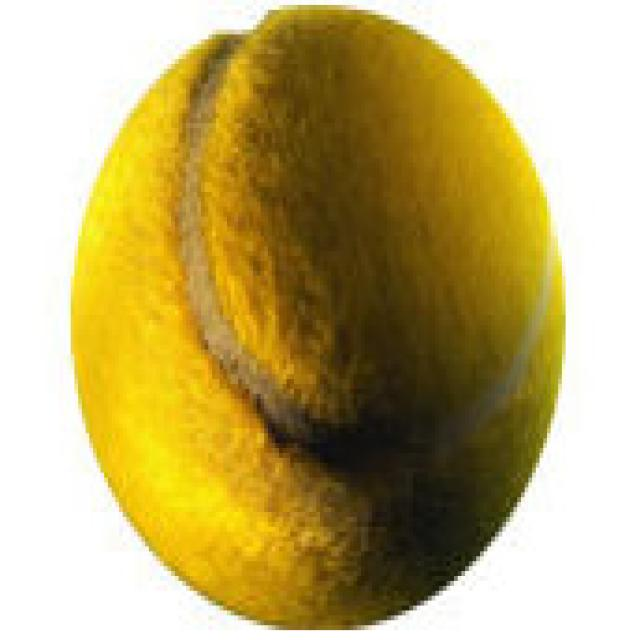Tennis Ball: (74, 5, 569, 635)
